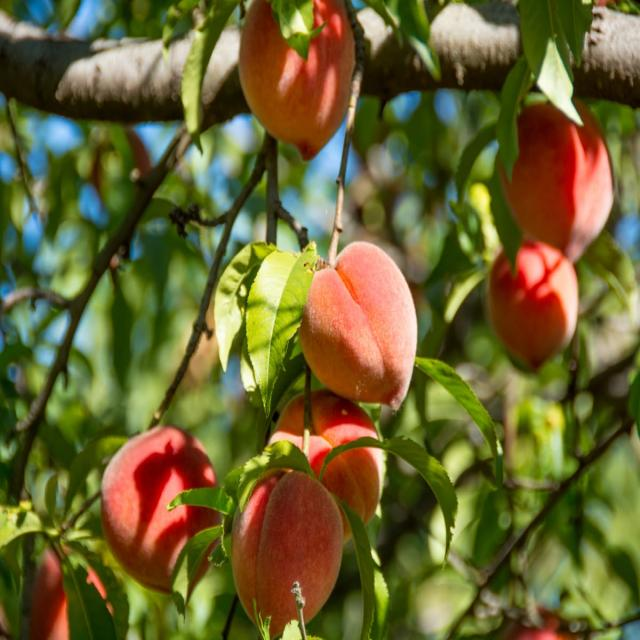Peach: (4, 0, 626, 640)
